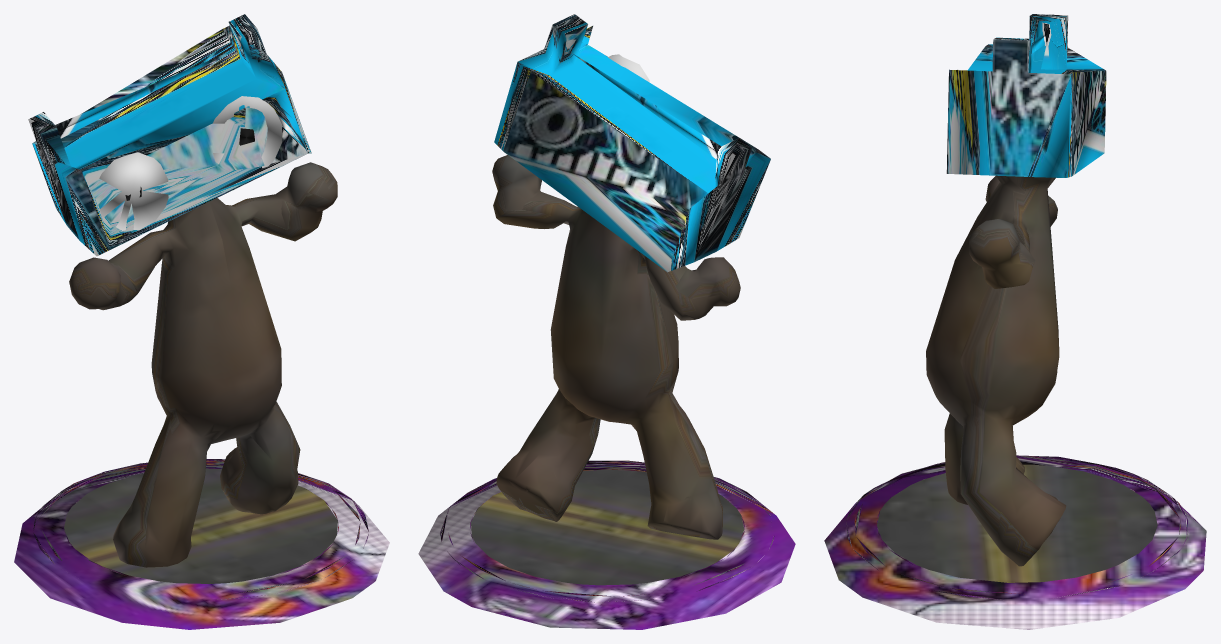
3 renders of one model, left to right at view 1: azimuth 30°, elevation 25°; view 2: azimuth 150°, elevation 25°; view 3: azimuth 270°, elevation 25°, orthographic. The views are drawn at different scales.
Bounding box in the file's own units: 1.44 × 2.19 × 1.43.
6 materials, 4 textured.
